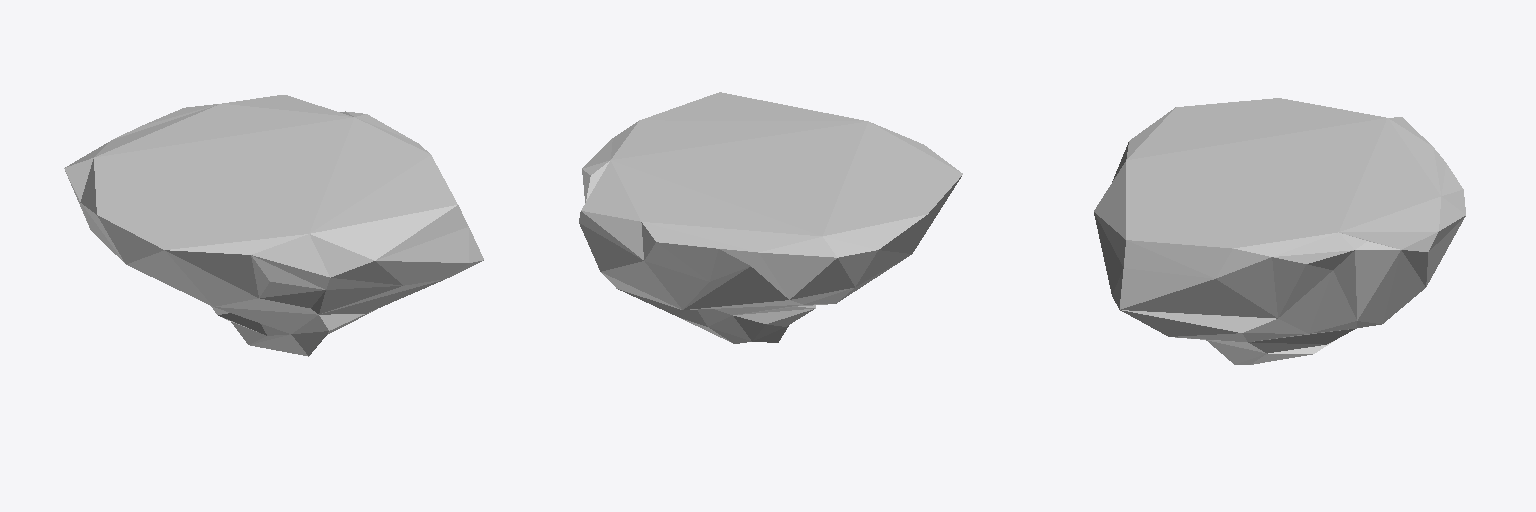
Rendered from IslandMini1.obj.
3 views of the same model, side by side, from view 1: azimuth 30°, elevation 25°; view 2: azimuth 150°, elevation 25°; view 3: azimuth 270°, elevation 25° (orthographic).
Parts seen in each view (by area): view 1: Mini_Island_1_Sphere.006; view 2: Mini_Island_1_Sphere.006; view 3: Mini_Island_1_Sphere.006.
Part boxes in pixels (bbox=[...]): Mini_Island_1_Sphere.006: bbox=[64, 95, 483, 356]; Mini_Island_1_Sphere.006: bbox=[579, 92, 962, 343]; Mini_Island_1_Sphere.006: bbox=[1094, 98, 1465, 364].
Bounding box in the file's own units: 14.99 × 7.73 × 15.17.